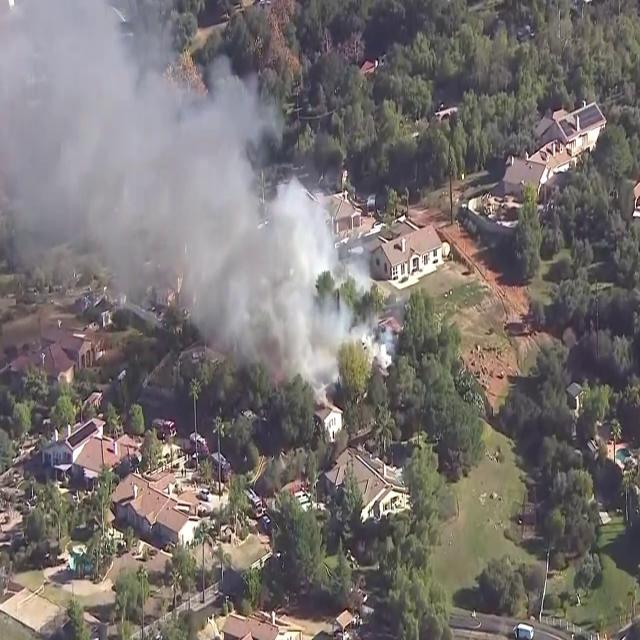Smoke: (0, 1, 374, 416)
